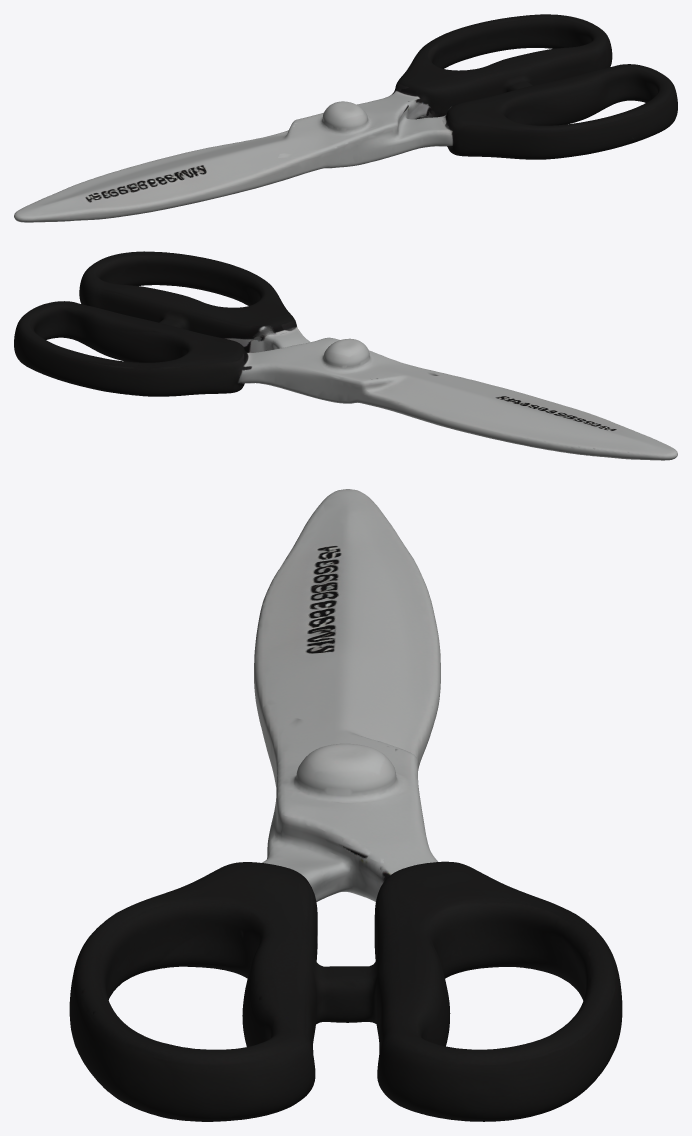
The model's file is goodcase0304_141.glb.
The picture shows the model from 3 angles, top to bottom: view 1: azimuth 30°, elevation 25°; view 2: azimuth 150°, elevation 25°; view 3: azimuth 270°, elevation 25°; orthographic projection. The views are drawn at different scales.
Visible parts, largest first — view 1: texture_v128_amrb_13w_cfg2_realbump_hdr.001; view 2: texture_v128_amrb_13w_cfg2_realbump_hdr.001; view 3: texture_v128_amrb_13w_cfg2_realbump_hdr.001.
Part boxes in pixels (x1,y1,x2,y2): texture_v128_amrb_13w_cfg2_realbump_hdr.001: [14, 14, 677, 222]; texture_v128_amrb_13w_cfg2_realbump_hdr.001: [14, 251, 677, 460]; texture_v128_amrb_13w_cfg2_realbump_hdr.001: [69, 489, 622, 1121].
Bounding box in the file's own units: 2 × 0.1556 × 0.77.
1 material, 1 textured.
